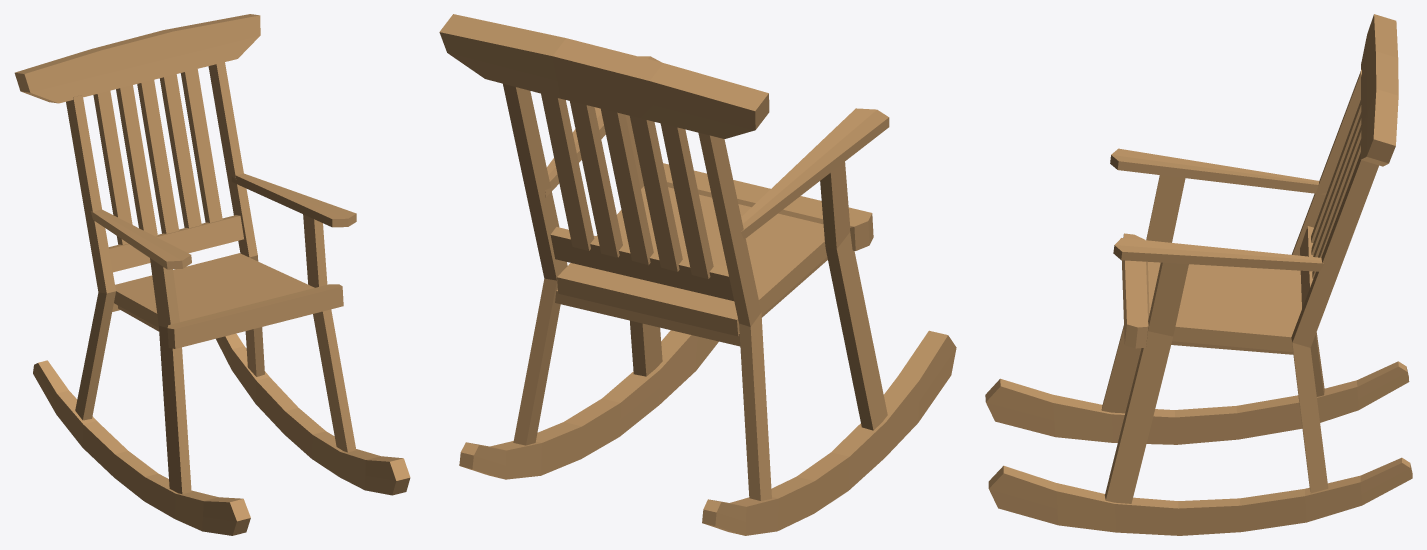
The model's file is Chair_2.fbx.
The picture shows the model from 3 angles, left to right: view 1: azimuth 30°, elevation 25°; view 2: azimuth 150°, elevation 25°; view 3: azimuth 270°, elevation 25°; orthographic projection. The views are drawn at different scales.
Visible parts, largest first — view 1: Chair_2; view 2: Chair_2; view 3: Chair_2.
Part boxes in pixels (x1,y1,x2,y2): Chair_2: [14, 14, 410, 535]; Chair_2: [439, 14, 956, 535]; Chair_2: [985, 14, 1412, 535].
Size of the model in its own units: 85.52 by 122 by 130.
